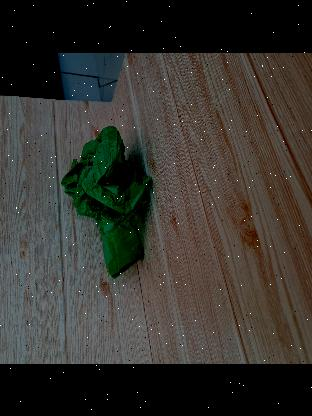Others: (64, 126, 156, 282)
